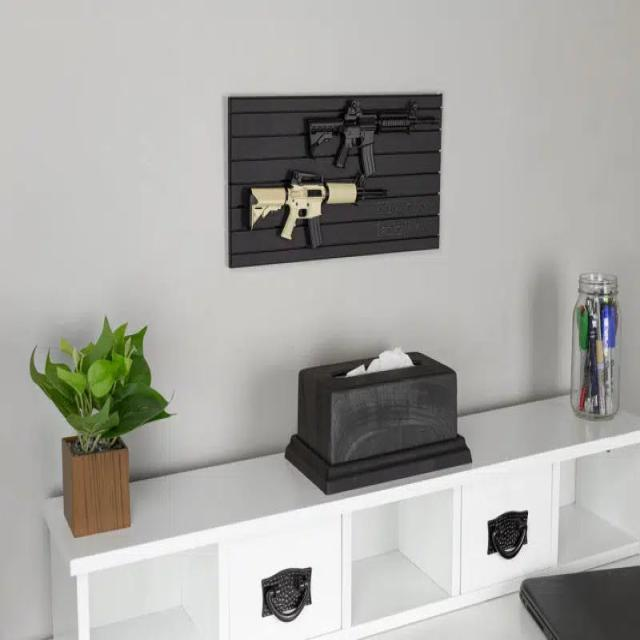Rifle: (242, 171, 388, 250), (306, 101, 442, 178)
